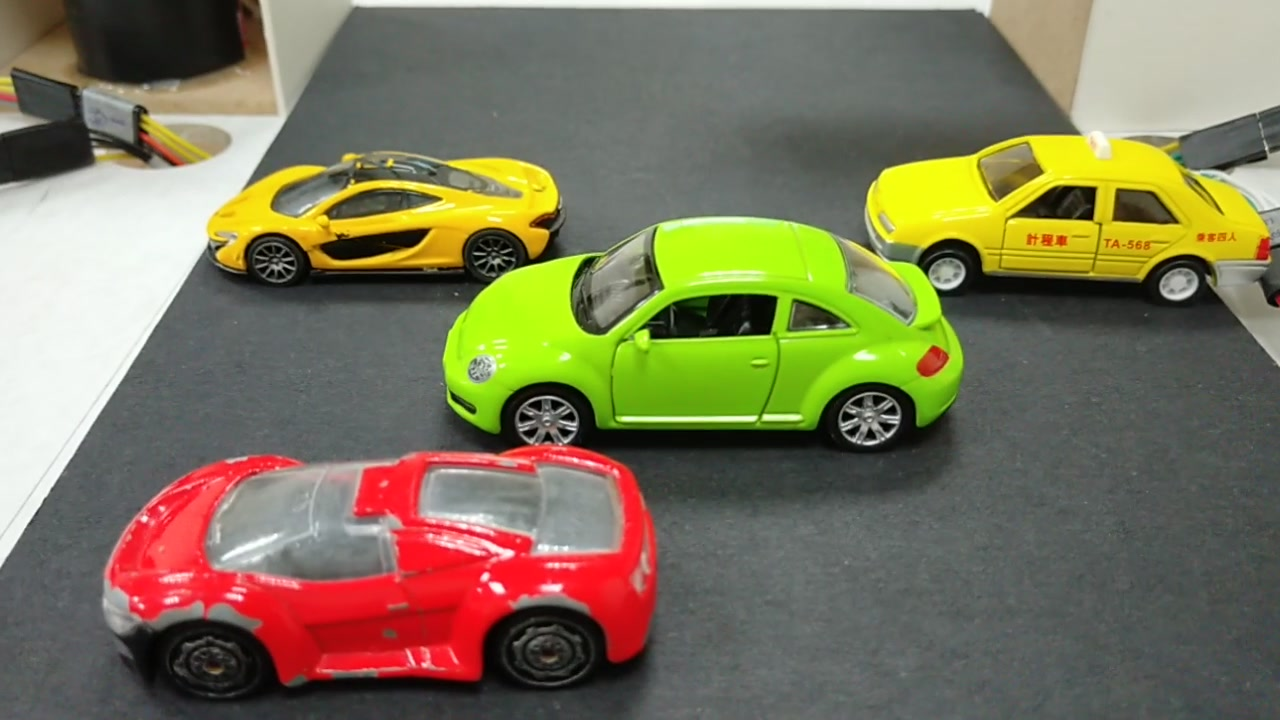car: (452, 214, 971, 468), (106, 459, 659, 682), (875, 140, 1268, 312), (225, 162, 555, 282)
